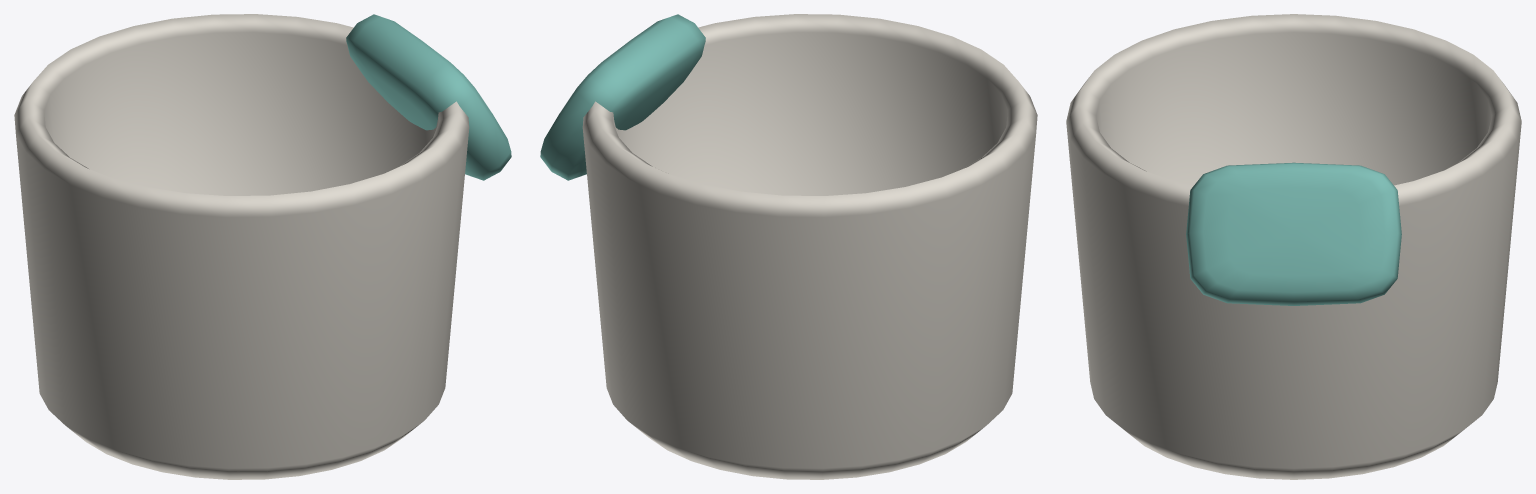
The model's file is bath_bucket.glb.
3 views of the same model, side by side, from view 1: azimuth 30°, elevation 25°; view 2: azimuth 150°, elevation 25°; view 3: azimuth 270°, elevation 25° (orthographic).
Visible parts, largest first — view 1: bath_bucket_mesh; view 2: bath_bucket_mesh; view 3: bath_bucket_mesh.
Part boxes in pixels (box(x1,y1,x2,y2)): bath_bucket_mesh: box(14, 14, 511, 479); bath_bucket_mesh: box(540, 14, 1037, 479); bath_bucket_mesh: box(1066, 14, 1521, 479).
Size of the model in its own units: 0.4134 by 0.2977 by 0.38.
